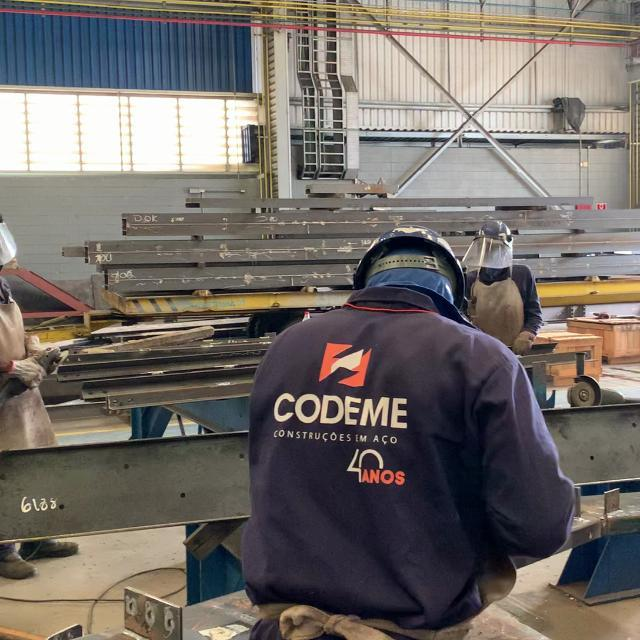face-shield: (461, 238, 506, 271), (1, 219, 16, 261)
glove: (5, 354, 50, 391), (509, 333, 535, 354)
helmet: (354, 223, 467, 309), (476, 217, 509, 238)
person: (240, 224, 577, 634), (2, 217, 69, 443), (465, 219, 544, 355)
safety-shoe: (19, 539, 80, 561), (3, 544, 36, 581)
